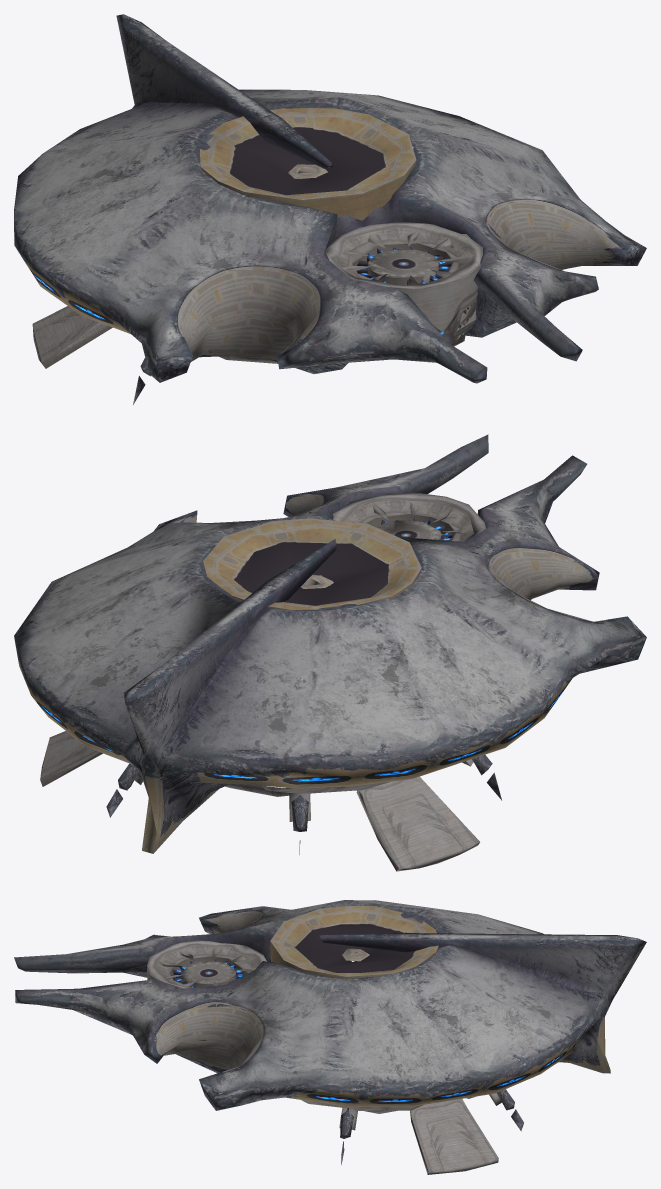
File: warp-ship.glb
3 renders of one model, top to bottom at view 1: azimuth 30°, elevation 25°; view 2: azimuth 150°, elevation 25°; view 3: azimuth 270°, elevation 25°, orthographic. The views are drawn at different scales.
Parts seen in each view (by area): view 1: b_FbxAxisSystem_ConvertNode; view 2: b_FbxAxisSystem_ConvertNode; view 3: b_FbxAxisSystem_ConvertNode.
Boxes of the visible parts, x1,y1,x2,y2 form: b_FbxAxisSystem_ConvertNode: (14, 14, 646, 404); b_FbxAxisSystem_ConvertNode: (14, 434, 646, 871); b_FbxAxisSystem_ConvertNode: (14, 900, 646, 1174).
Bounding box in the file's own units: 23.11 × 9.36 × 33.21.
1 material, 1 textured.
